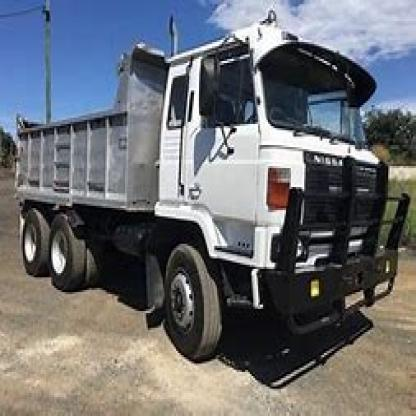dump_truck: (18, 6, 408, 364)
